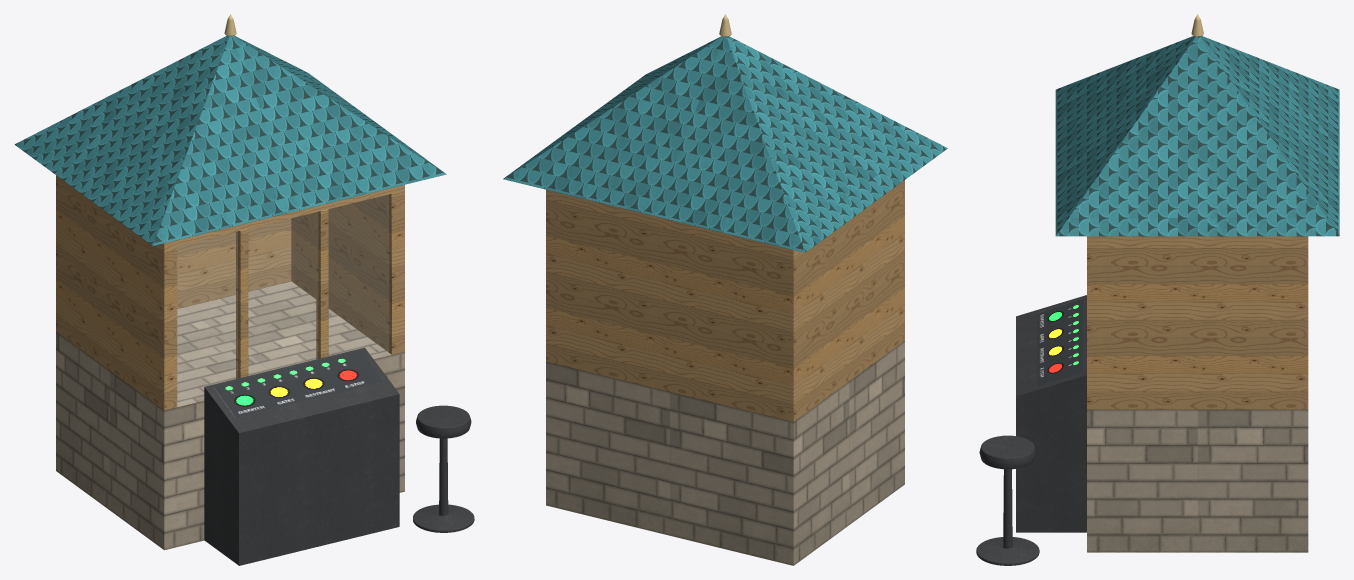
The model's file is SM_QUE_DispatchBooth.fbx.
3 renders of one model, left to right at view 1: azimuth 30°, elevation 25°; view 2: azimuth 150°, elevation 25°; view 3: azimuth 270°, elevation 25°, orthographic. The views are drawn at different scales.
Parts seen in each view (by area): view 1: SM_QUE_DispatchBooth; view 2: SM_QUE_DispatchBooth; view 3: SM_QUE_DispatchBooth.
Boxes of the visible parts, x1,y1,x2,y2 form: SM_QUE_DispatchBooth: (14,14,474,565); SM_QUE_DispatchBooth: (503,14,947,565); SM_QUE_DispatchBooth: (976,14,1339,565).
Bounding box in the file's own units: 2.2 × 3.34 × 2.3.
